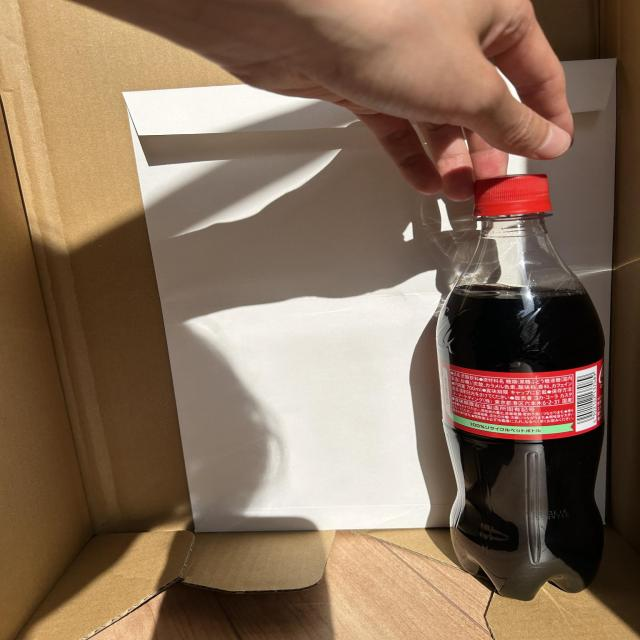high: (436, 175, 604, 600)
